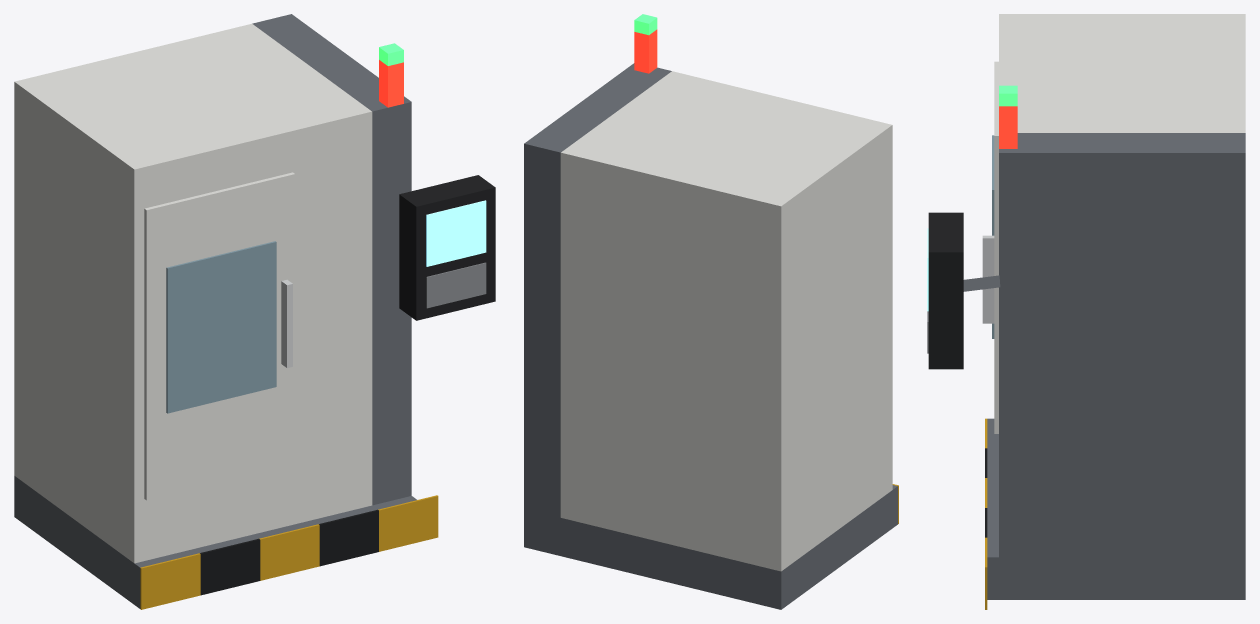
File: cnc_machine.glb
3 views of the same model, side by side, from view 1: azimuth 30°, elevation 25°; view 2: azimuth 150°, elevation 25°; view 3: azimuth 270°, elevation 25° (orthographic). The views are drawn at different scales.
Parts seen in each view (by area): view 1: cnc_machine; view 2: cnc_machine; view 3: cnc_machine.
Boxes of the visible parts, x1,y1,x2,y2 form: cnc_machine: (14,14,495,609); cnc_machine: (524,14,898,609); cnc_machine: (927,14,1245,609).
Size of the model in its own units: 1.65 by 2.36 by 1.36.
1 material, 1 textured.
